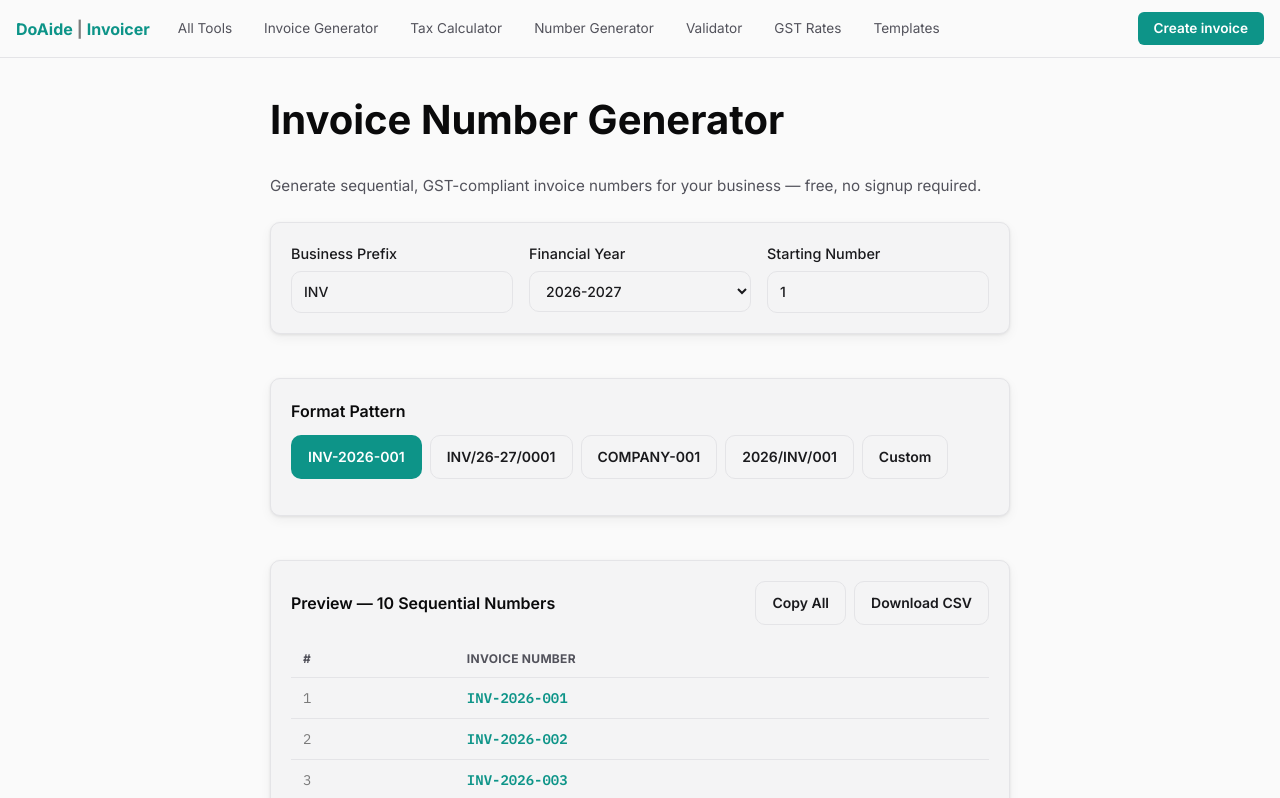
InvoiceNumberGeneratorPage › shows custom pattern input when Custom is selected
Click the button "Custom" at (905, 457), box [862,435,948,479]
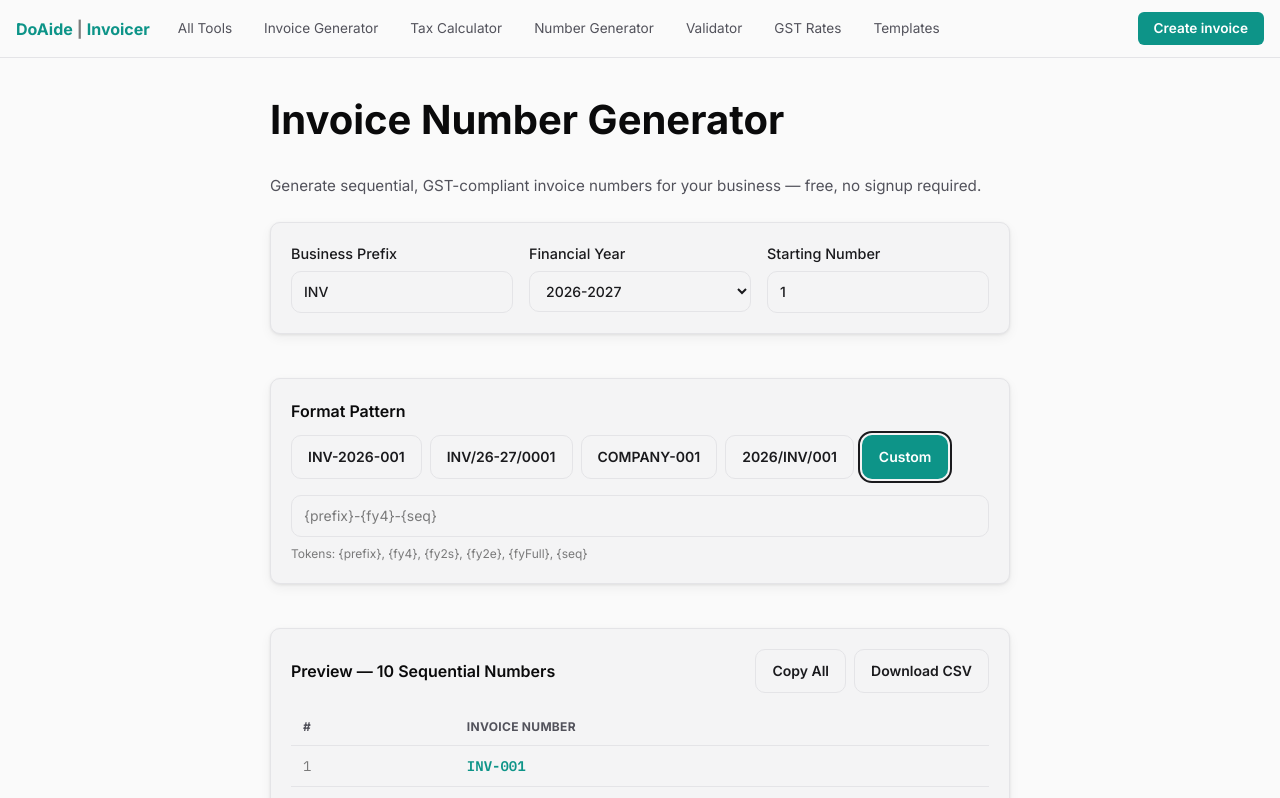
Check: the field with placeholder "{prefix}-{fy4}-{seq}" is shown, box [291,495,989,537]
